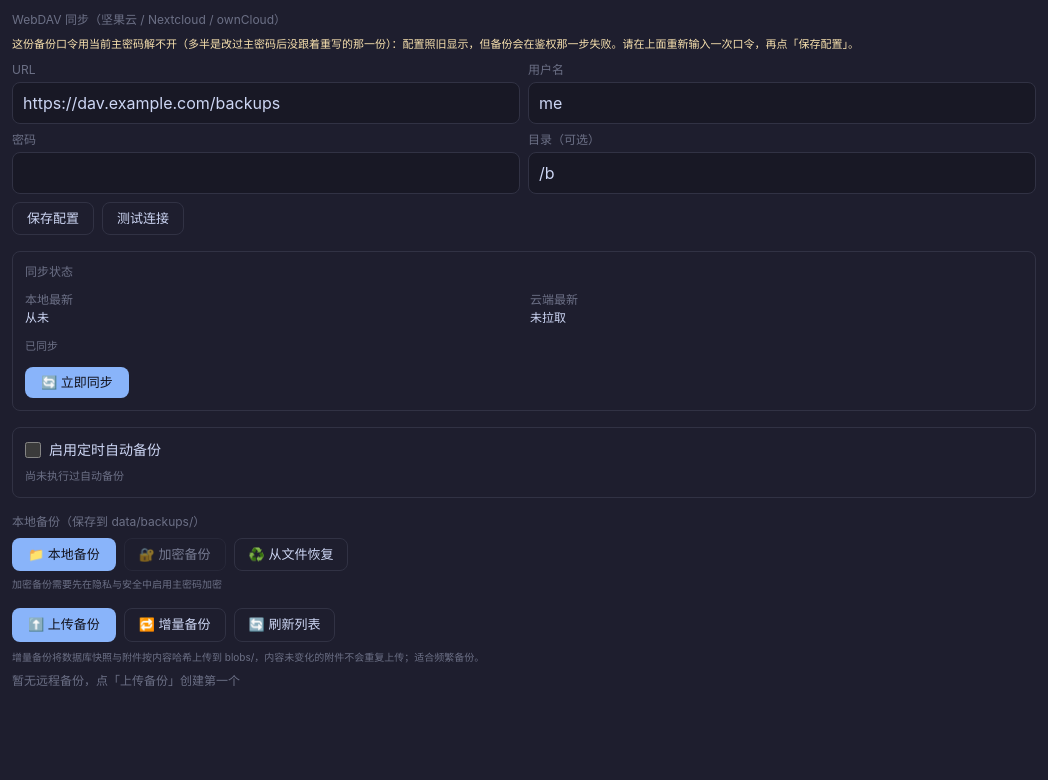
Scenario: ①「这份口令解不开」那一句 › 重填口令并保存 ⇒ 那句当场收回（它已经跟着这次写入换新钥了）
Type "a-brand-new-dav-pwd" into the password field at x=266, y=173, box [12,152,520,194]
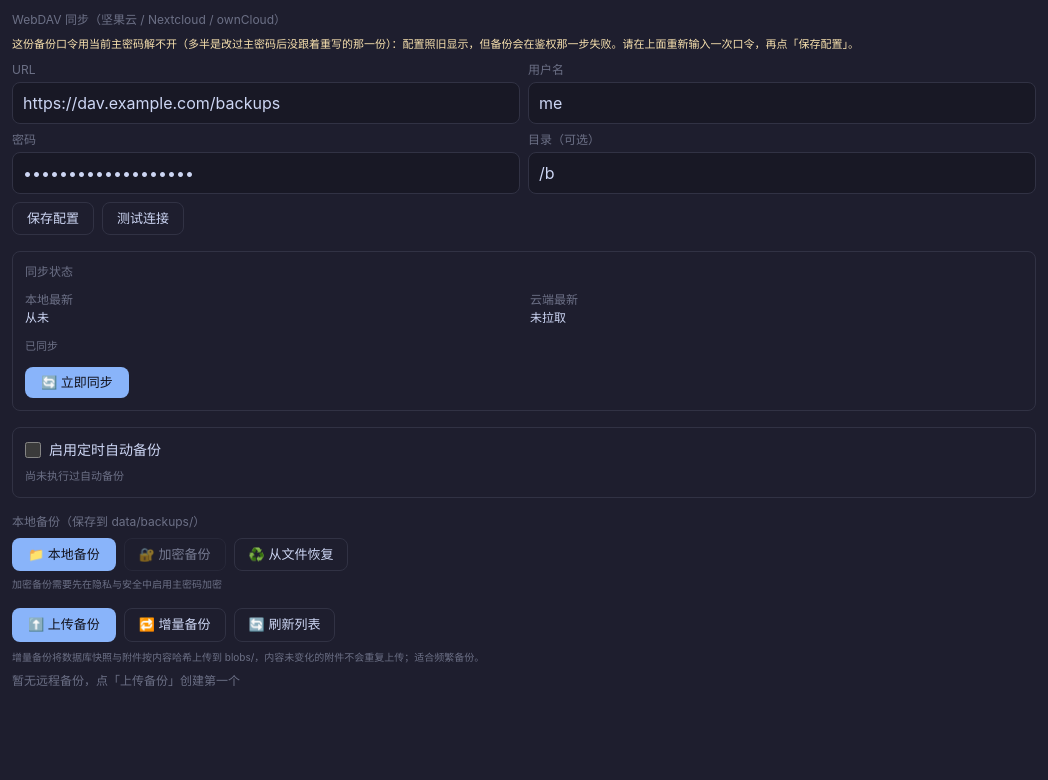
Click the button "保存配置" at x=53, y=219, box [12,202,94,235]
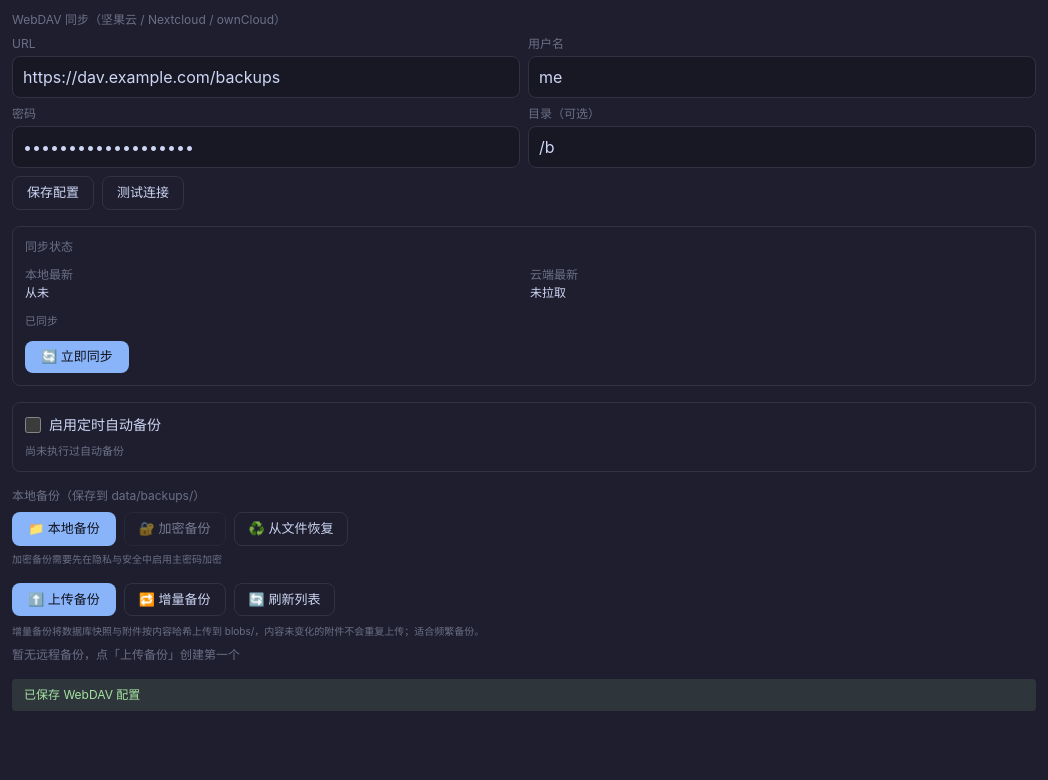
Check: the text "已保存 WebDAV 配置" is shown, box [12,679,1036,711]
